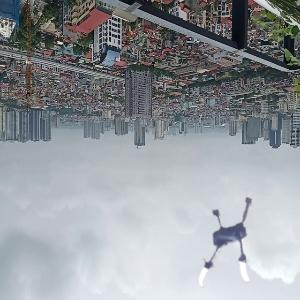drone: (182, 195, 285, 298)
